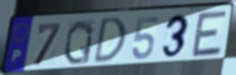3: (160, 12, 195, 61)
5: (130, 15, 160, 61)
7: (33, 21, 63, 68)
D: (91, 16, 128, 66)
E: (190, 8, 230, 59)
Q: (61, 19, 95, 67)
